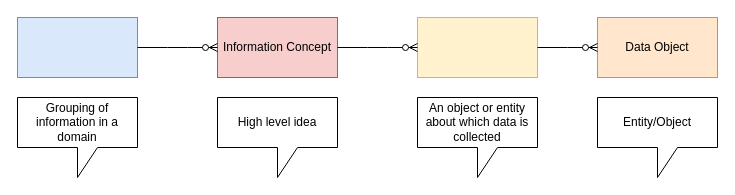
Image size: 735x195. Some labels were removed from this diagram. Each missing label, with the centre of its shape:
Data Subject: (477,47)
Information Domain: (77,47)
